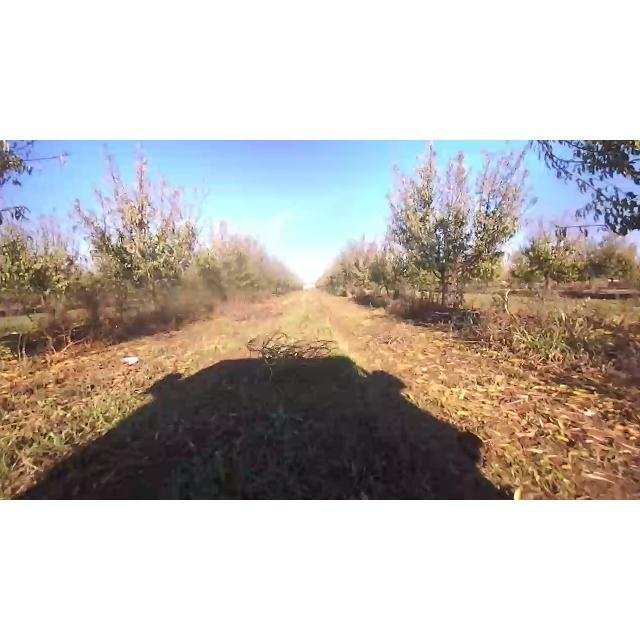direk: (80, 146, 208, 312), (397, 150, 519, 314), (528, 236, 568, 298)
